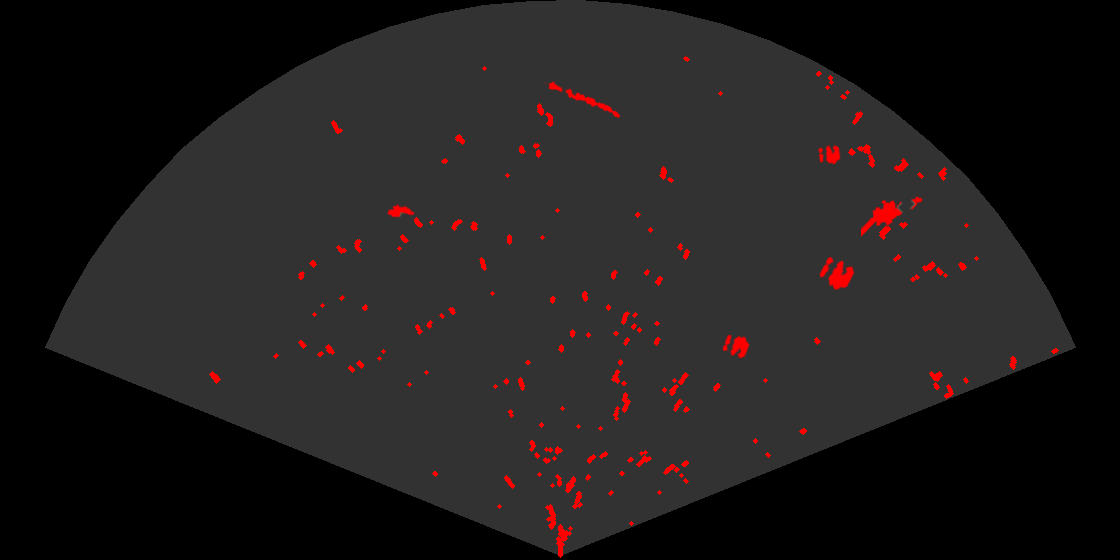AUV: (386, 202, 417, 219)
ball: (818, 255, 856, 292), (721, 333, 751, 360), (817, 144, 842, 166)
chain: (544, 80, 628, 121)
frogman: (861, 195, 924, 238)
